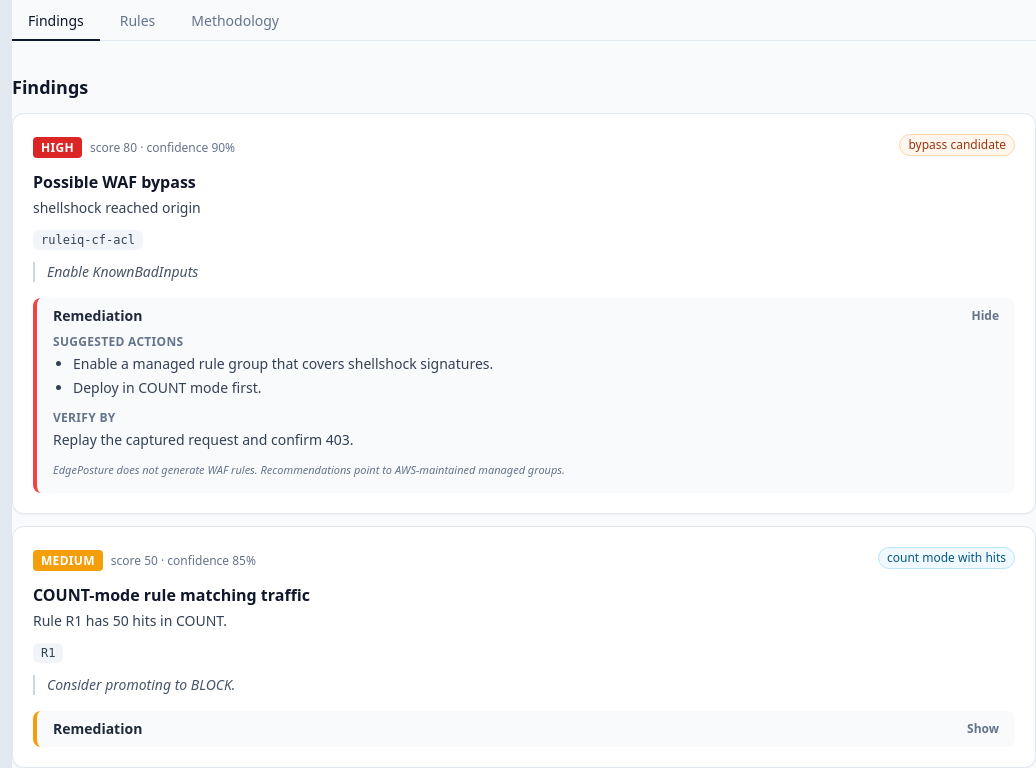
Test: Phase 5.3 — Results UI › Phase 5.3.1 Fix 6 — clicking the accordion header reveals the suggested-actions list
(page scrolled)
Note: Expand it.
Click the button with test id "remediation-toggle" showing "Remediation Show" at {"x": 98, "y": 729}, box [37, 711, 1015, 747]
(page scrolled)
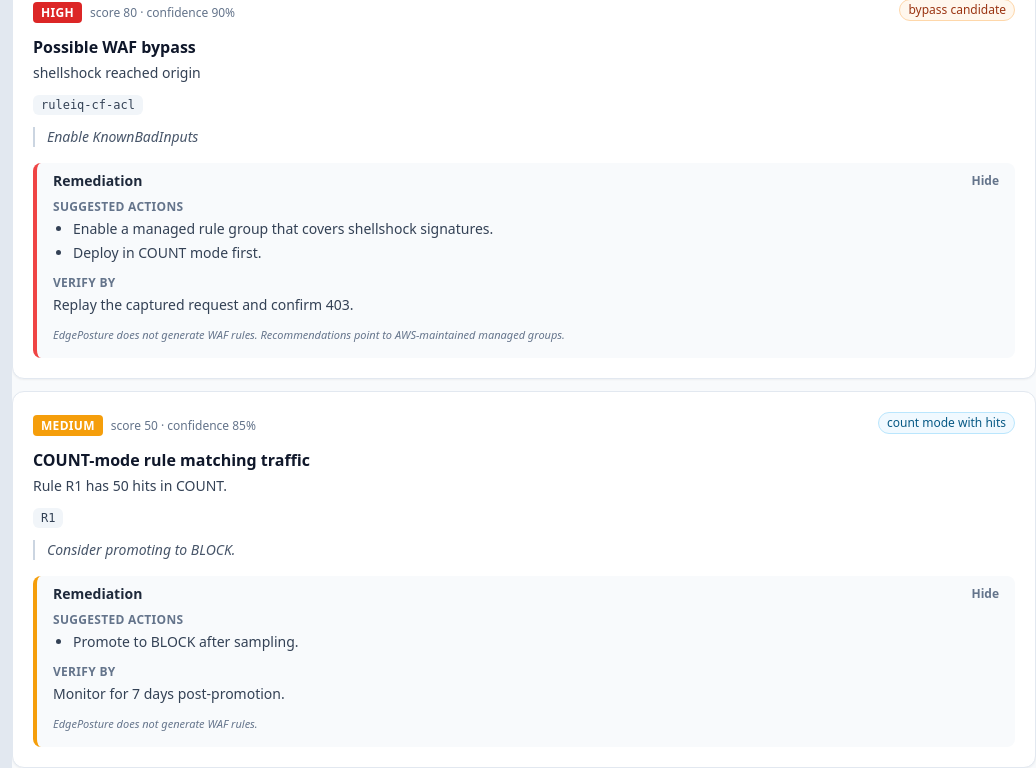
Expected: the list item "Promote to BLOCK after sampling." is shown, [73, 632, 298, 651]
